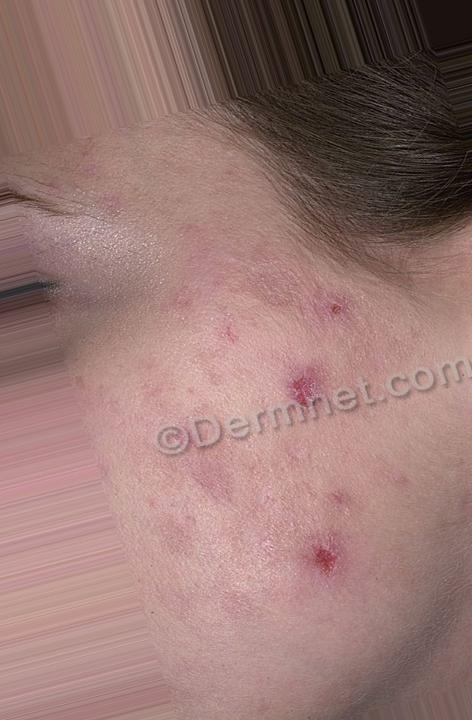Acne: (283, 365, 371, 453), (279, 505, 363, 580), (291, 281, 364, 329)
